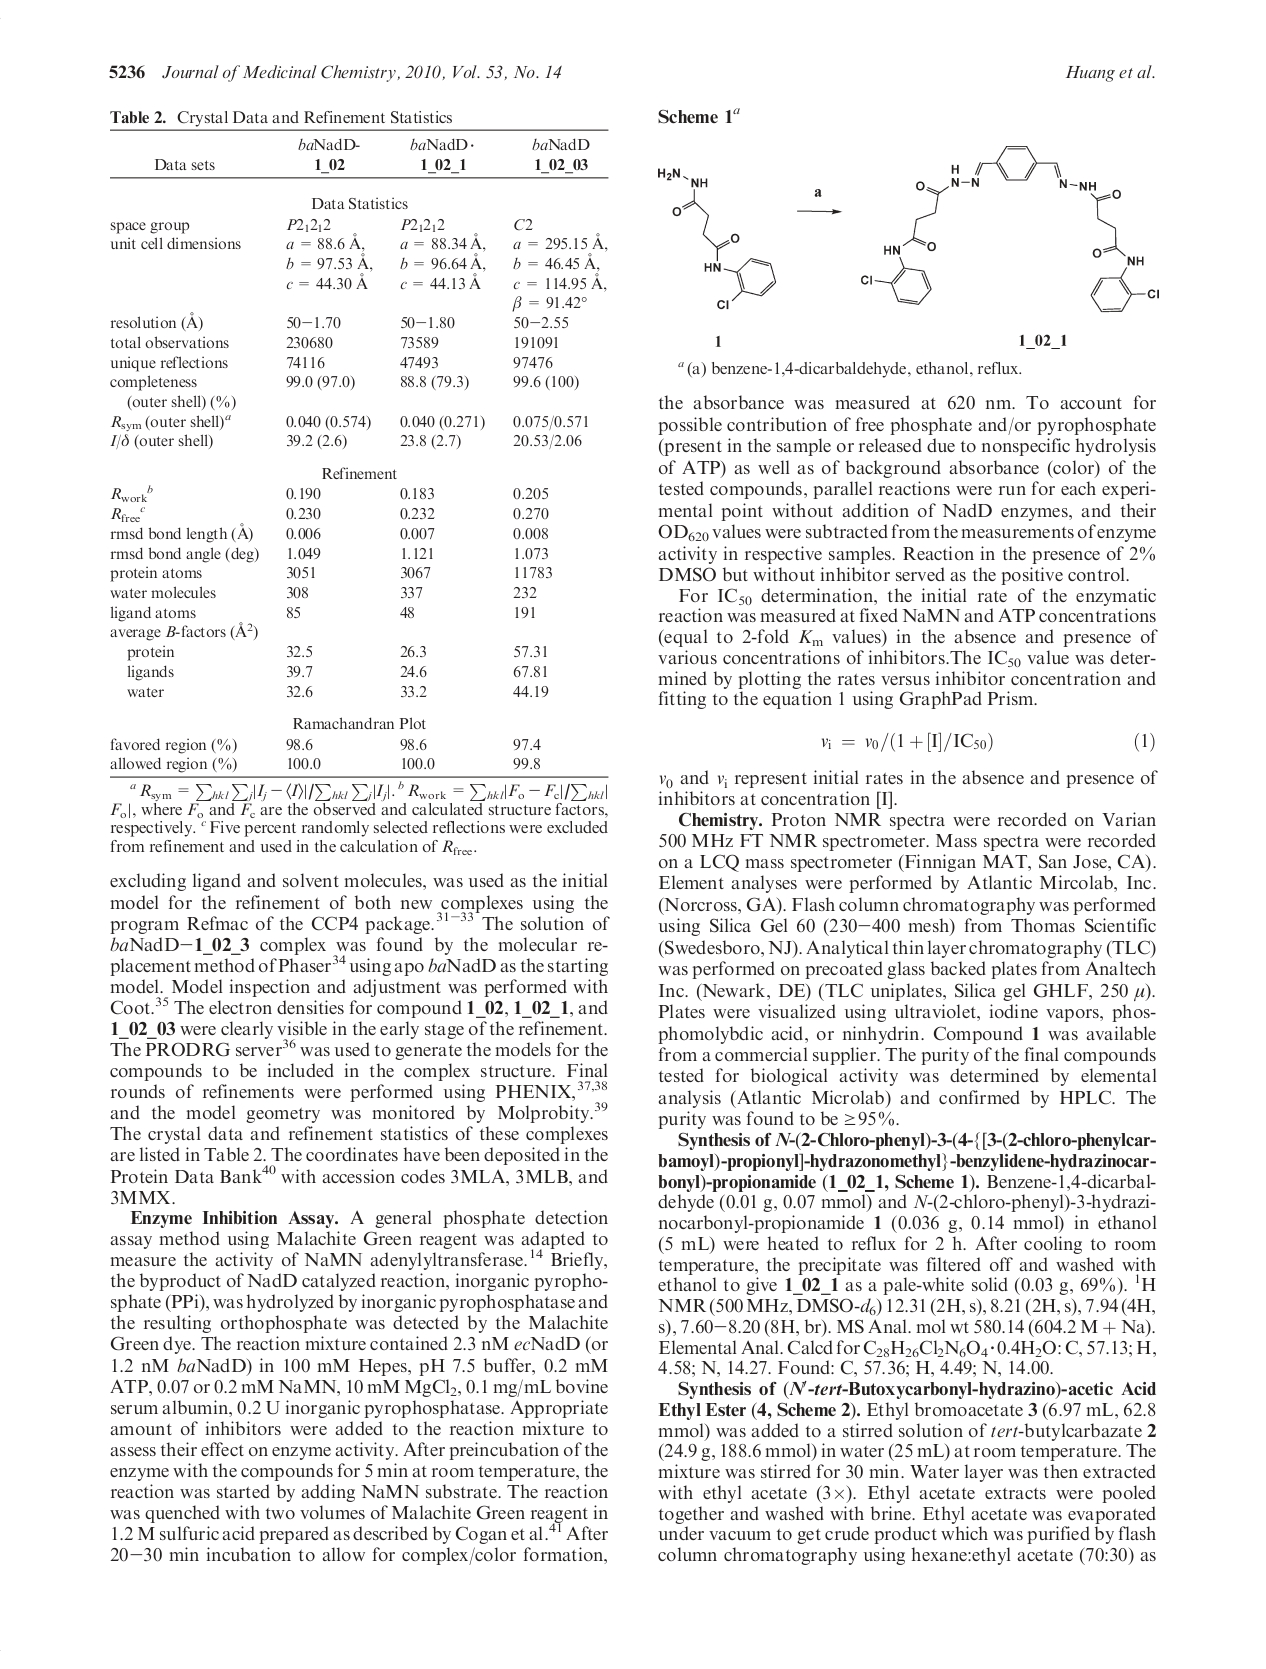exist_molecular: (860, 144, 1162, 317), (654, 162, 775, 313)
